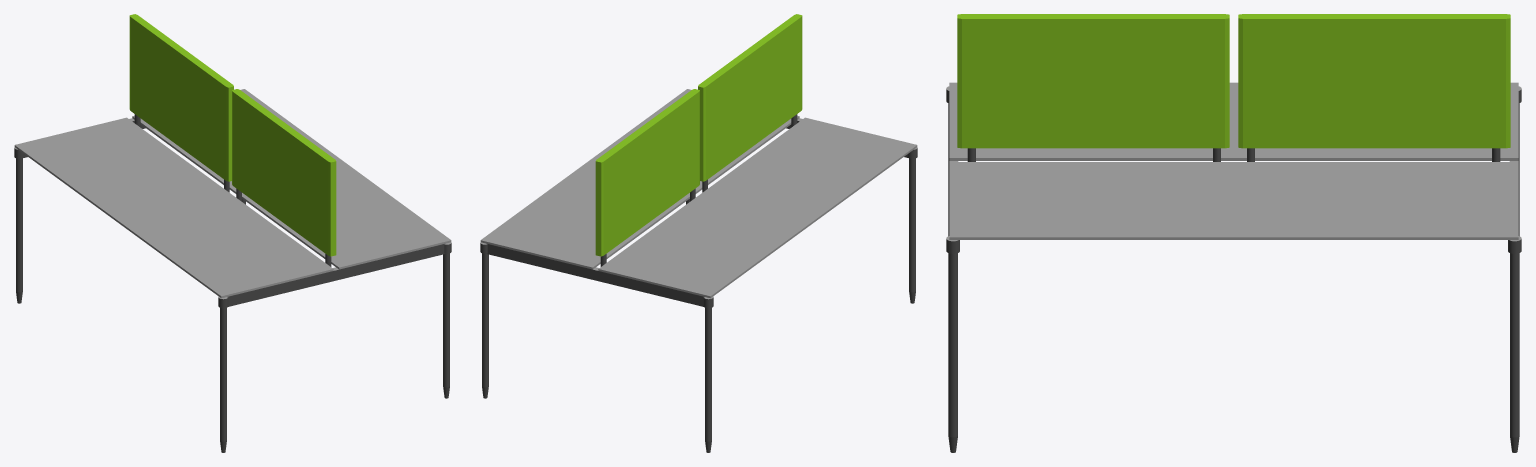
The model's file is tablegreendividersupdated.obj.
3 views of the same model, side by side, from view 1: azimuth 30°, elevation 25°; view 2: azimuth 150°, elevation 25°; view 3: azimuth 270°, elevation 25° (orthographic). The views are drawn at different scales.
Visible parts, largest first — view 1: Cube; view 2: Cube; view 3: Cube.
Boxes of the visible parts, x1=… form: Cube: x1=14, y1=14, x2=451, y2=452; Cube: x1=480, y1=14, x2=917, y2=452; Cube: x1=946, y1=14, x2=1521, y2=452.
Size of the model in its own units: 17.25 by 18.63 by 26.95.
